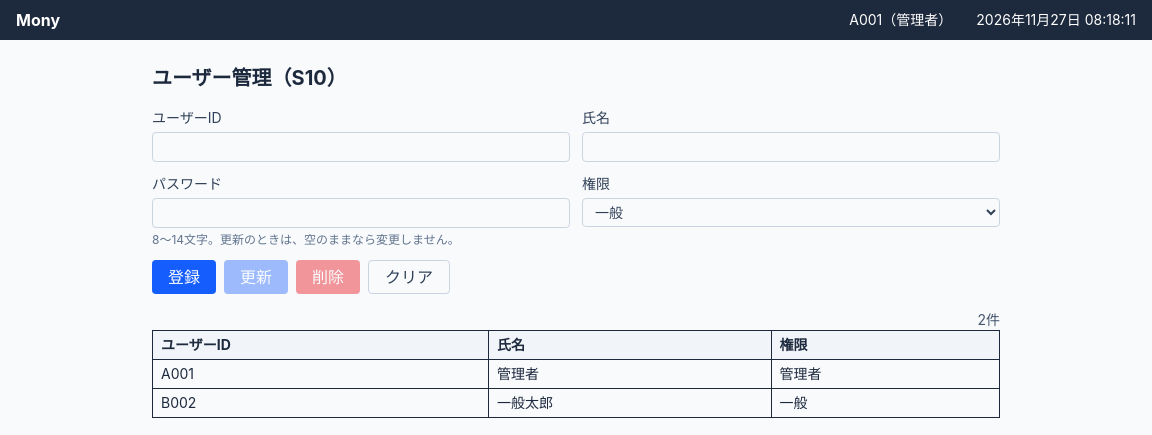
Test: 行の選択 › 行を選ぶと入力欄に表示され、ユーザーIDは編集不可・パスワード欄は空
The width and height of the screenshot is (1152, 435).
Expected: the heading "ユーザー管理（S10）" is shown, [152,66,347,90]
Step 1. Type "testpass1" into the password field labelled "パスワード" → x=361, y=213, box [152,198,570,228]
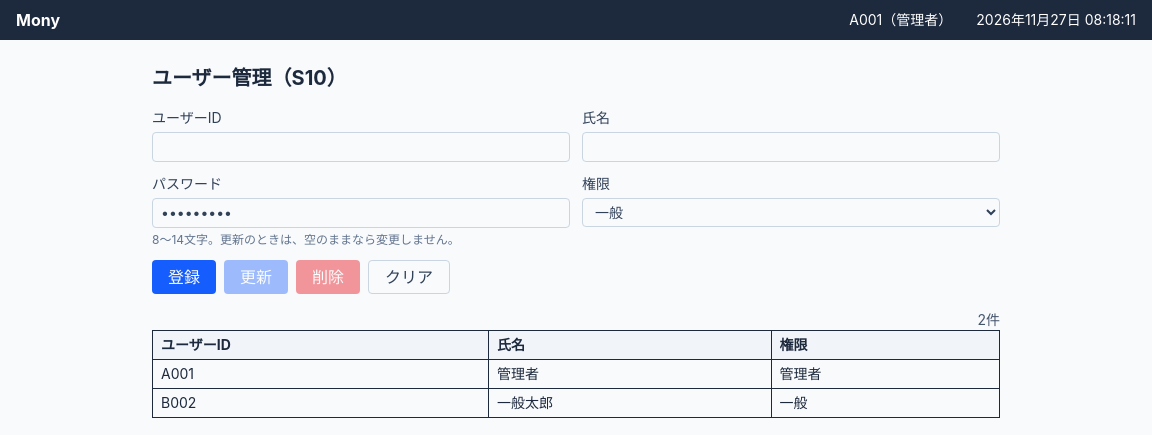
Step 2. Click the text "一般太郎" → x=630, y=403, box [488,388,771,418]
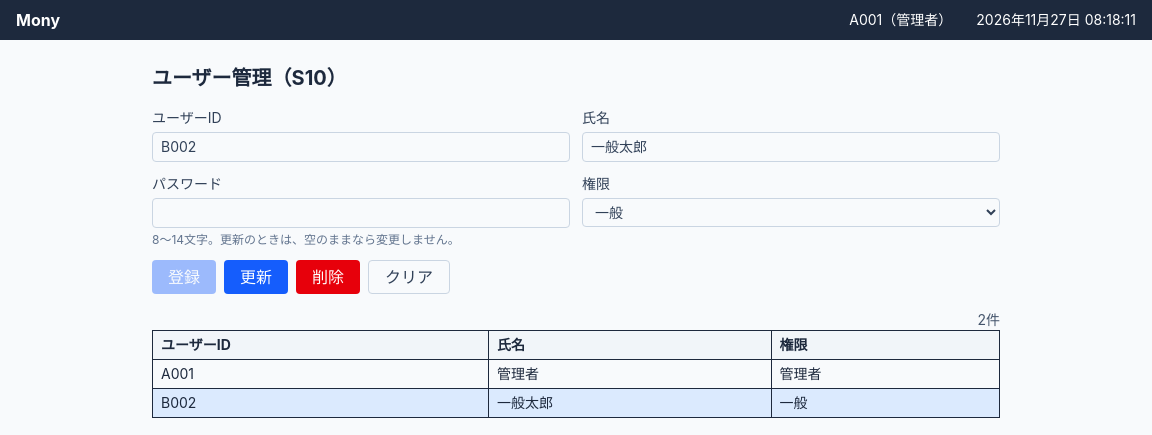
Expected: the field labelled "ユーザーID" holds "B002", [152,132,570,162]
Expected: the field labelled "ユーザーID" is disabled, [152,132,570,162]
Expected: the field labelled "氏名" holds "一般太郎", [582,132,1000,162]
